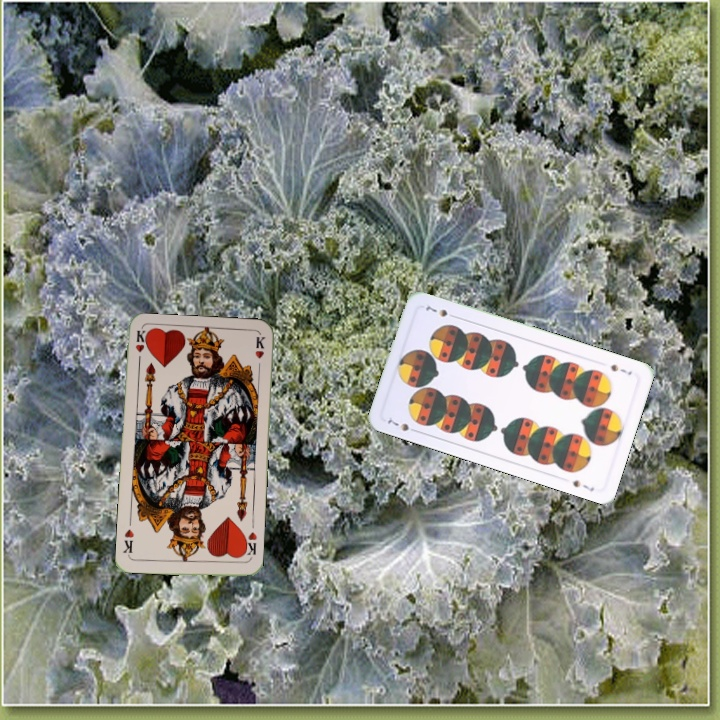HK: (131, 327, 149, 368), (239, 528, 259, 562)
S7: (381, 414, 421, 435), (607, 360, 634, 377)
